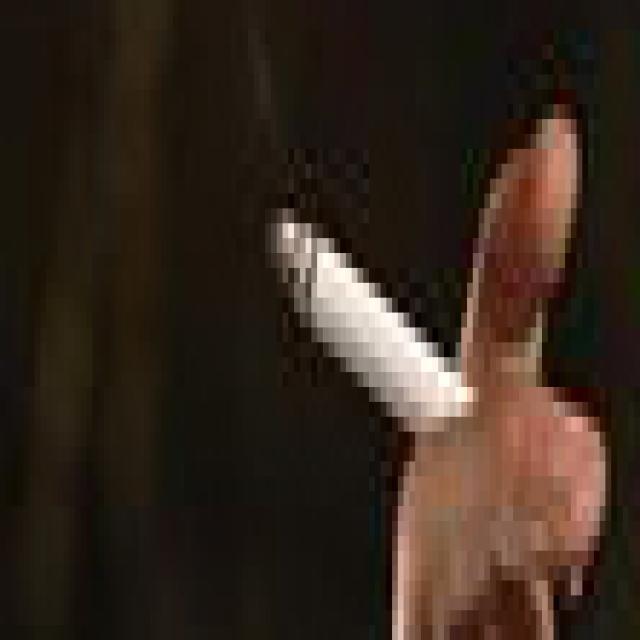smoking: (274, 213, 478, 448)
